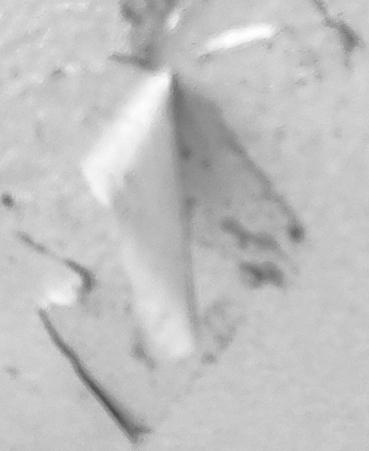paint-off: (1, 1, 369, 451)
